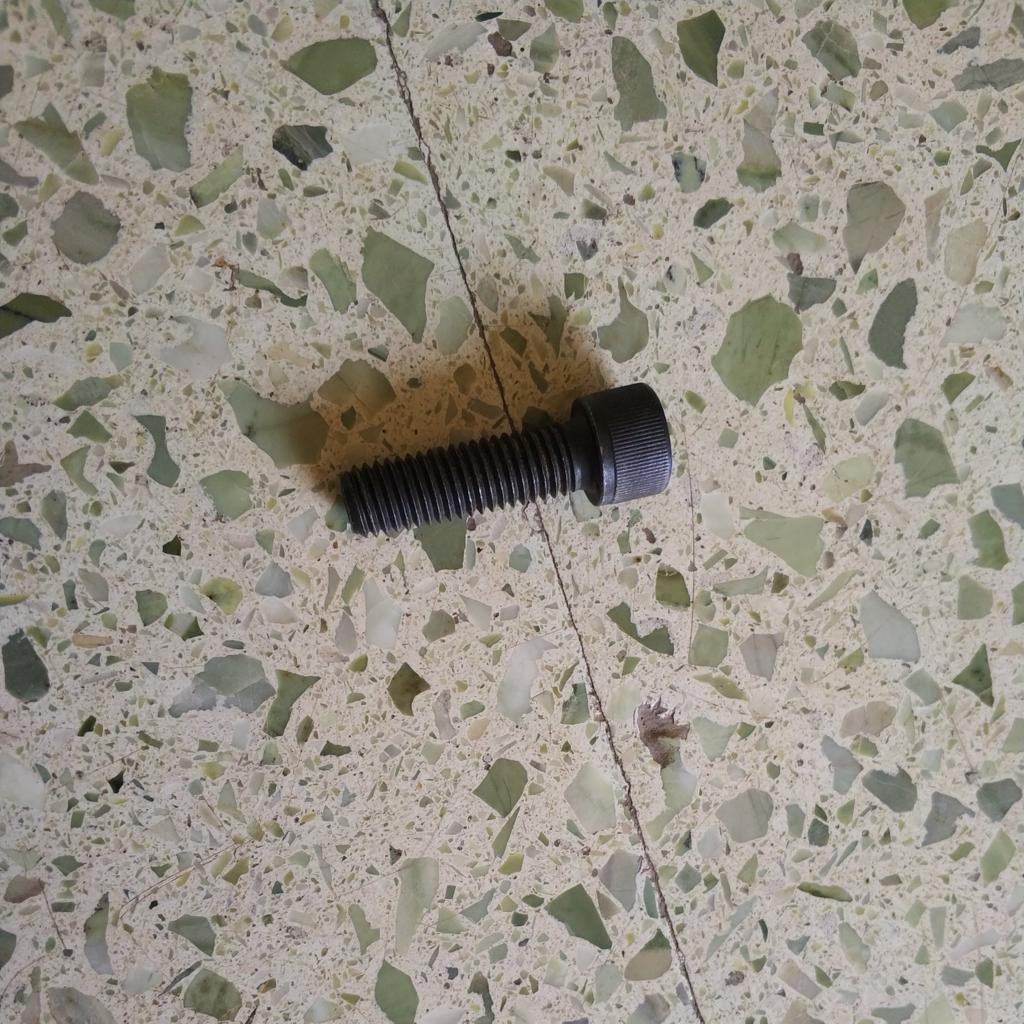screwtype1black: (336, 380, 684, 544)
